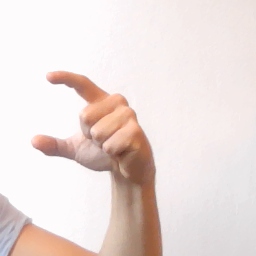C: (30, 68, 158, 183)
